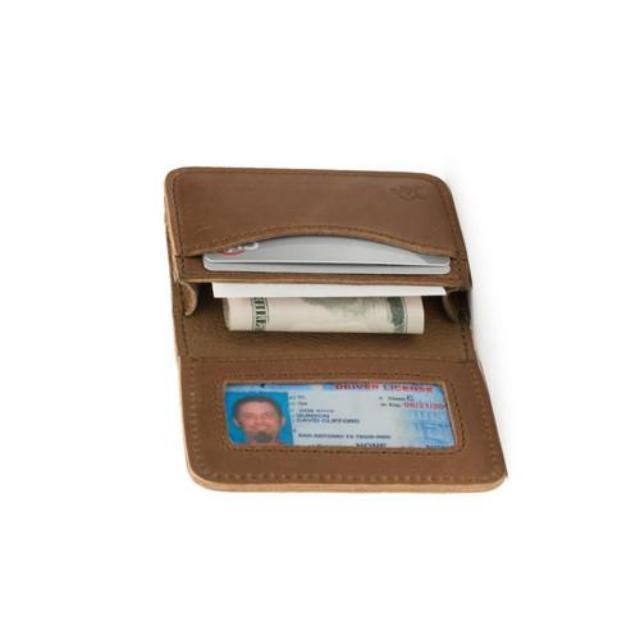wallet: (145, 153, 519, 507)
